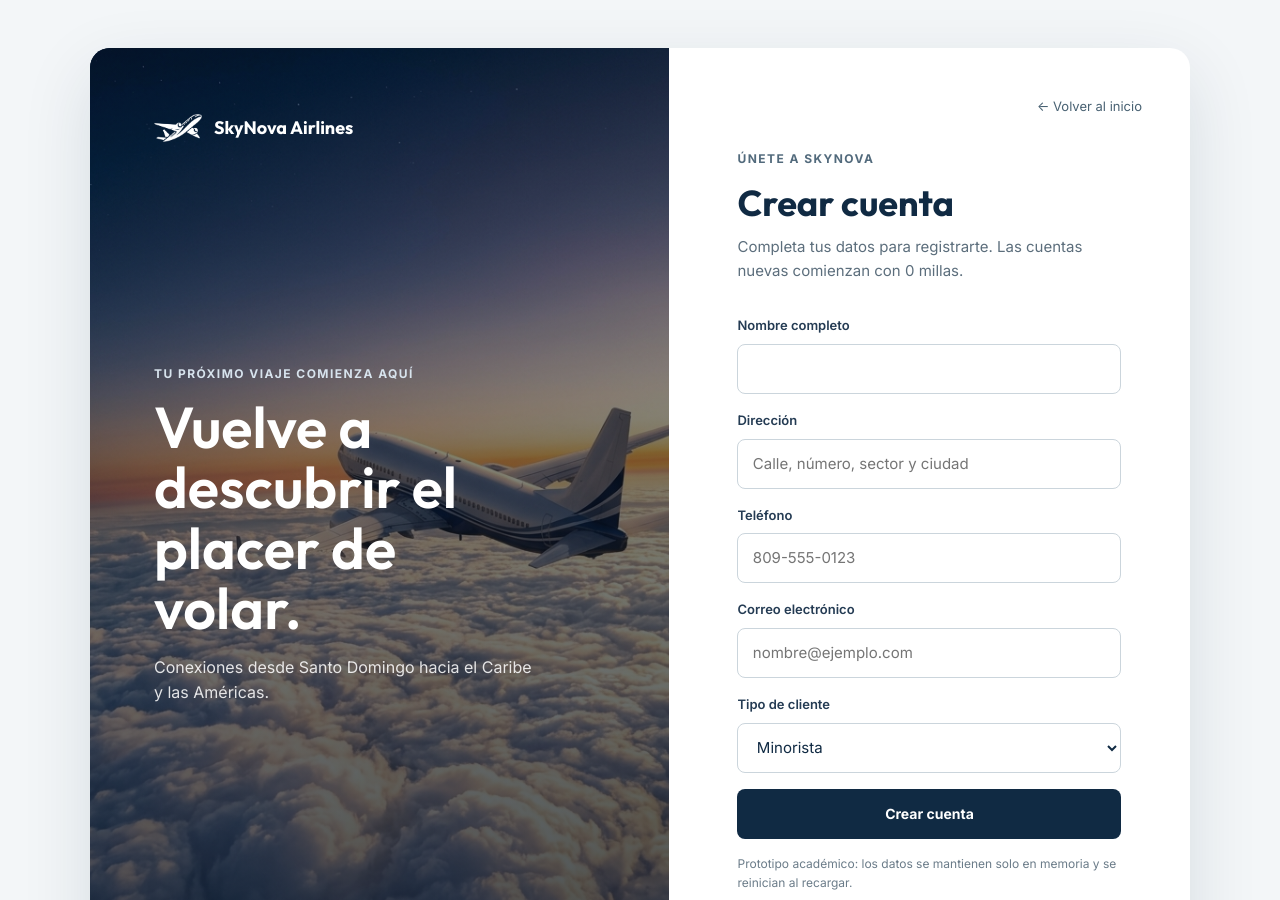
it: LoginPage — CU-02 registration › rejects an email that already belongs to another customer
Type "Otra Persona" into the field labelled "Nombre completo".
click(930, 369); type("Otra Persona")  # box [738,344,1122,394]
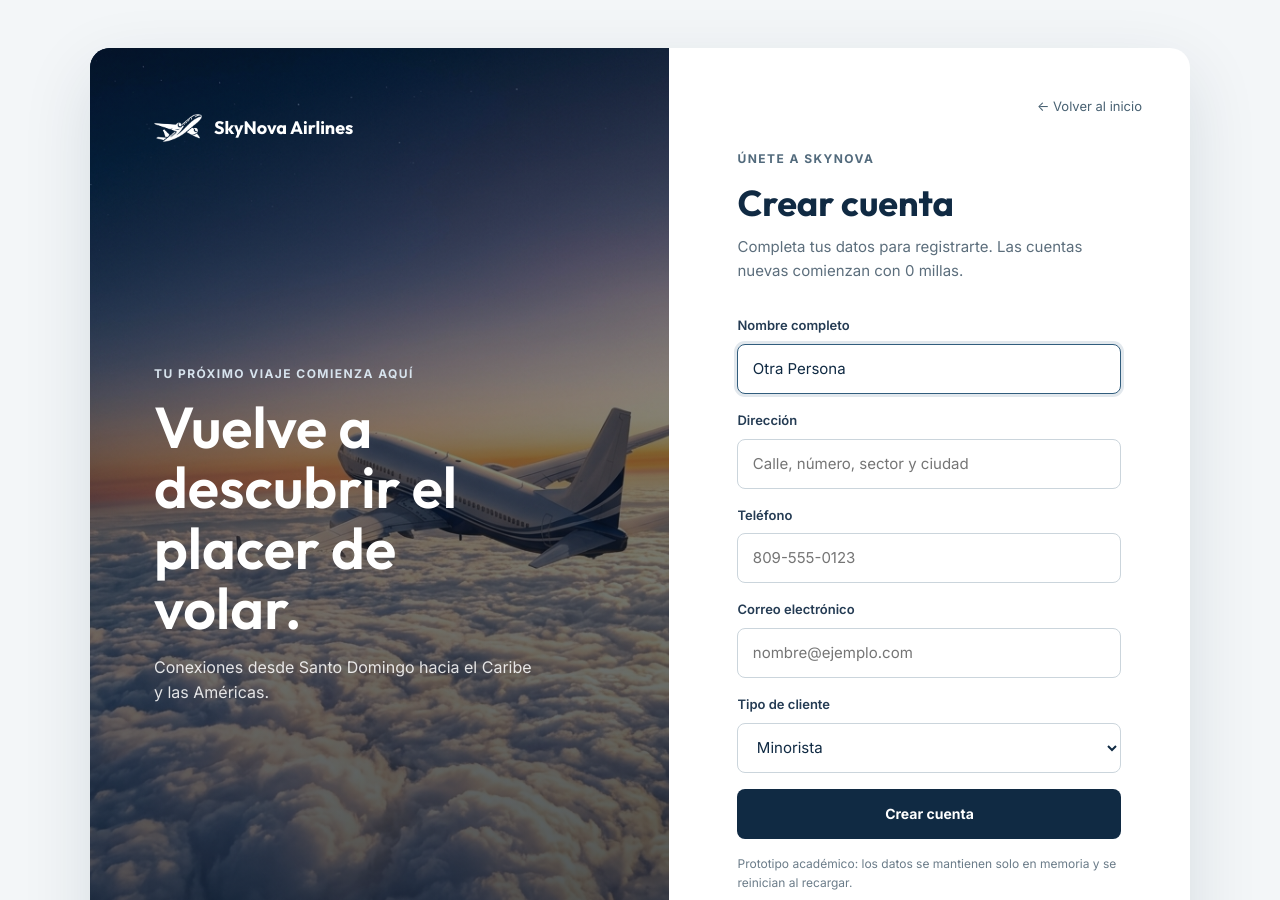
Type "Calle 2" into the field labelled "Dirección".
click(930, 464); type("Calle 2")  # box [738,439,1122,489]
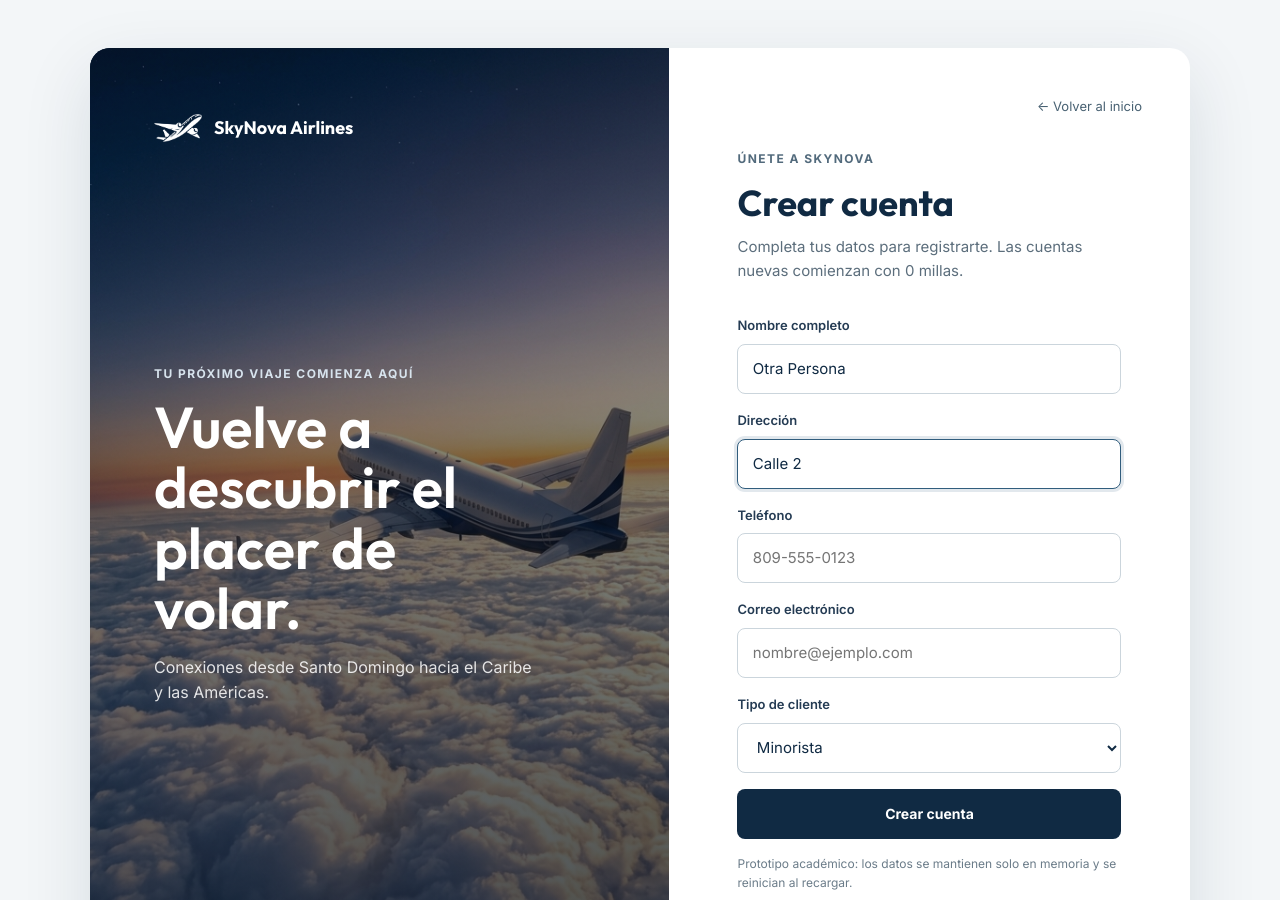
Type "8095550100" into the field labelled "Teléfono".
click(930, 558); type("8095550100")  # box [738,533,1122,583]
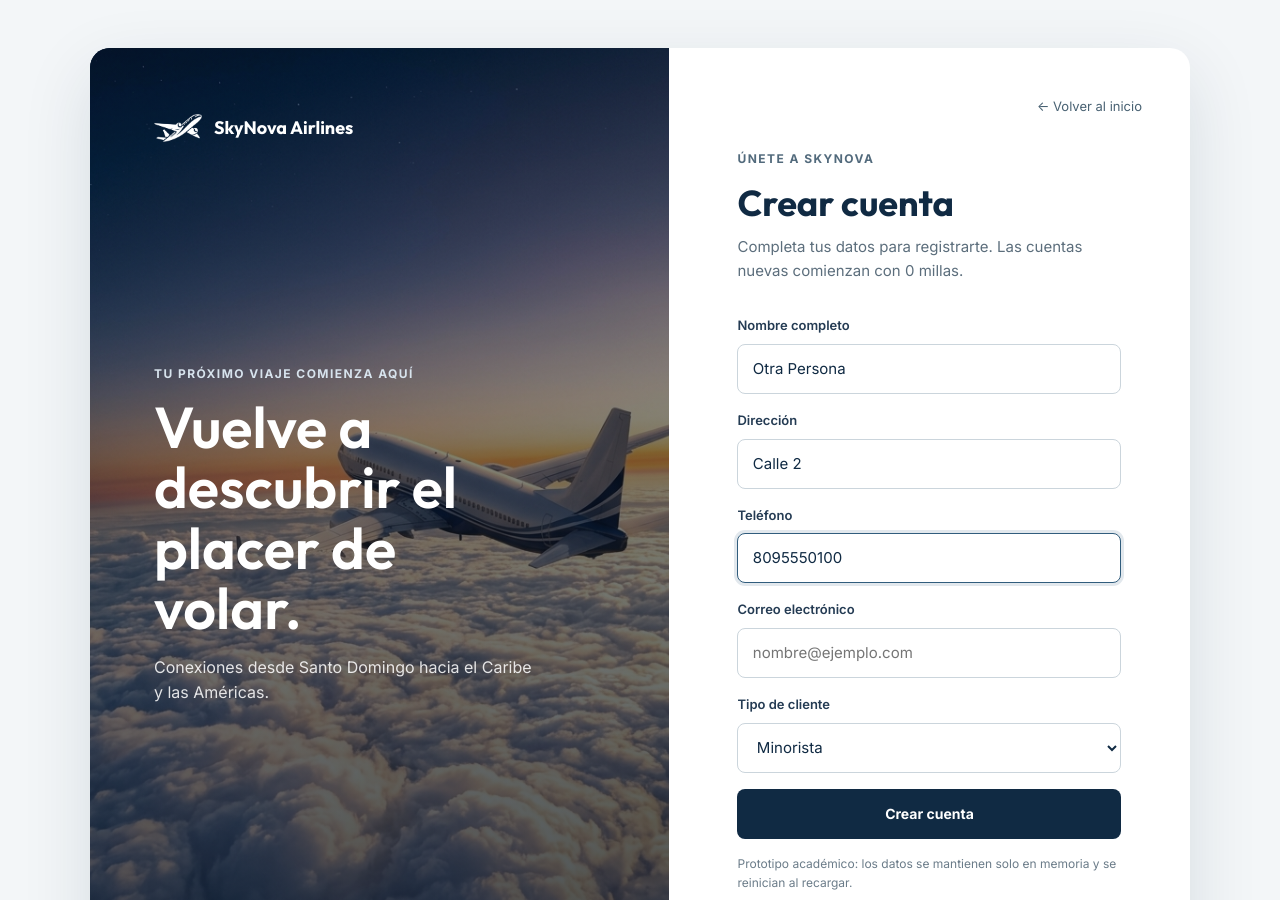
Type "minorista@codenova.demo" into the field labelled "Correo electrónico".
click(930, 653); type("minorista@codenova.demo")  # box [738,628,1122,678]
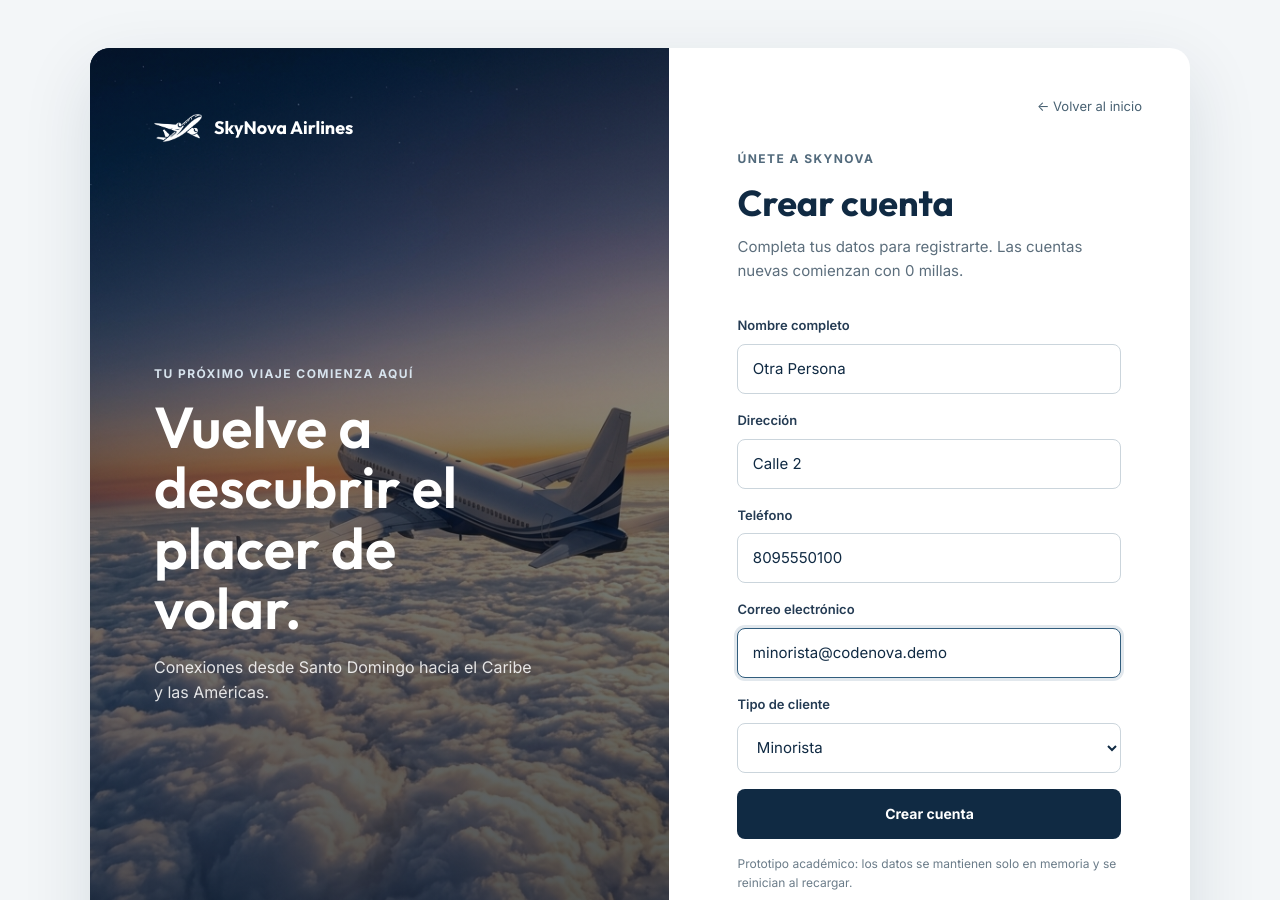
Click the button "Crear cuenta".
click(930, 814)  # box [738,789,1122,839]
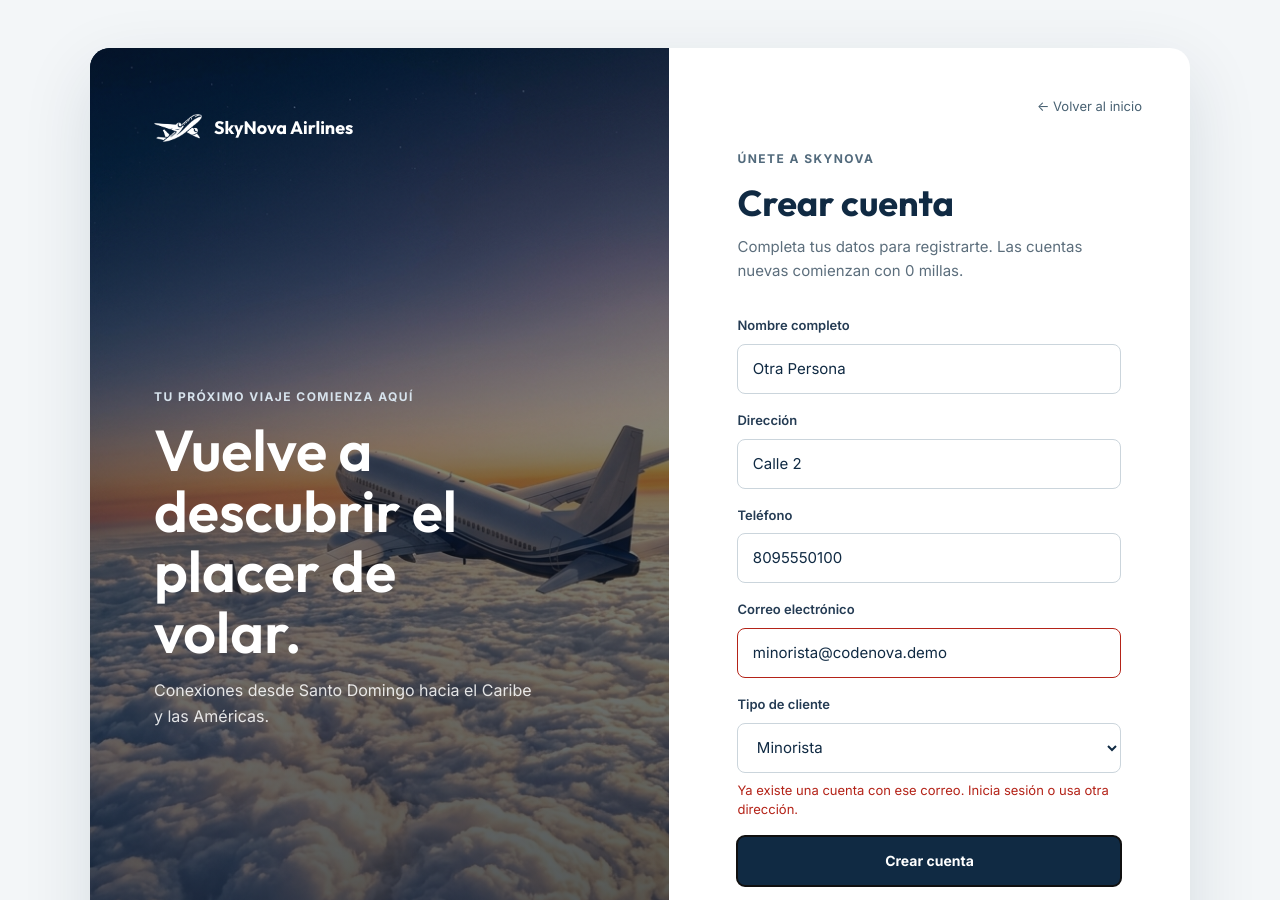
Expected: the text "Ya existe una cuenta con ese correo. Inicia sesión o usa otra dirección." is shown, [738,781,1122,820]
